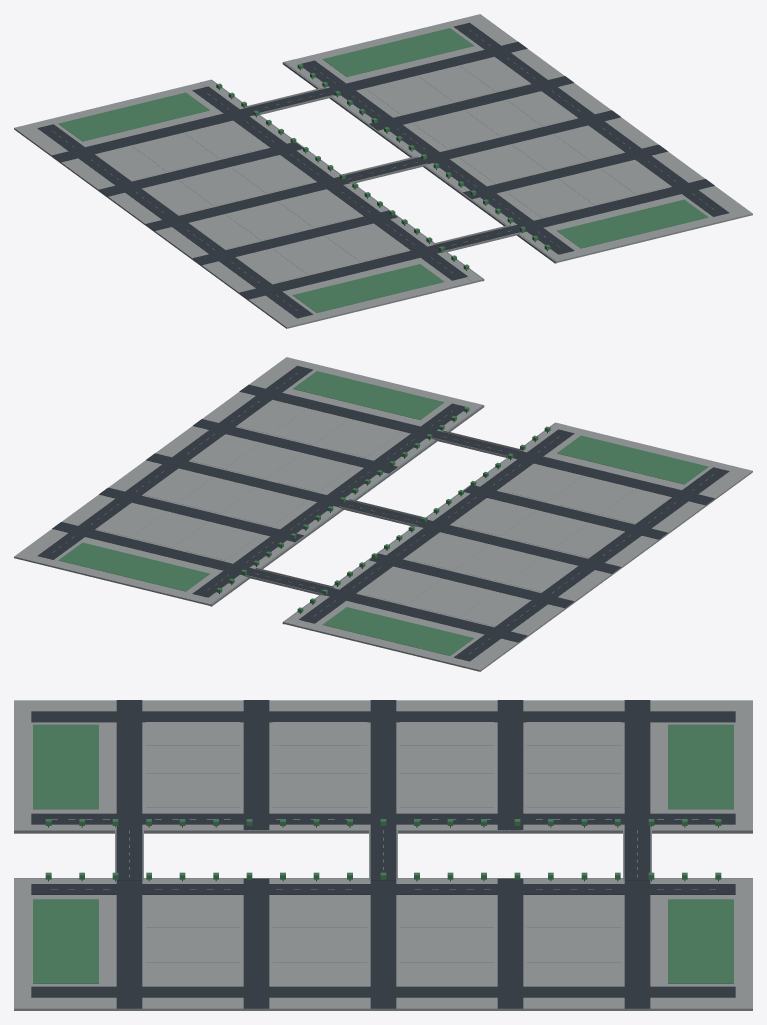
The model's file is riverside-site.glb.
3 views of the same model, one above another, from view 1: azimuth 30°, elevation 25°; view 2: azimuth 150°, elevation 25°; view 3: azimuth 270°, elevation 25° (orthographic). The views are drawn at different scales.
Parts seen in each view (by area): view 1: Building parcel (×24), Riverbank land (×2), Cross street (×10), Boulevard (×4), Riverside park (×4), Promenade (×2), Bridge road (×3), Quay wall; view 2: Building parcel (×24), Riverbank land (×2), Cross street (×10), Boulevard (×4), Riverside park (×4), Promenade (×2), Bridge road (×3), Quay wall; view 3: Building parcel (×24), Riverbank land (×2), Cross street (×10), Boulevard (×4), Riverside park (×4), Promenade (×2), Bridge road (×3), Quay wall (×2).
Boxes of the visible parts, bbox=[...] form: Building parcel (×24): bbox=[96, 57, 670, 283]; Riverbank land (×2): bbox=[14, 14, 752, 328]; Cross street (×10): bbox=[52, 41, 714, 299]; Boulevard (×4): bbox=[37, 22, 729, 318]; Riverside park (×4): bbox=[58, 28, 708, 312]; Promenade (×2): bbox=[200, 59, 566, 281]; Bridge road (×3): bbox=[246, 89, 519, 251]; Quay wall: bbox=[282, 62, 556, 263]; Building parcel (×24): bbox=[96, 400, 670, 626]; Riverbank land (×2): bbox=[14, 357, 752, 671]; Cross street (×10): bbox=[52, 384, 714, 642]; Boulevard (×4): bbox=[37, 365, 729, 661]; Riverside park (×4): bbox=[58, 371, 708, 655]; Promenade (×2): bbox=[200, 402, 566, 624]; Bridge road (×3): bbox=[247, 432, 520, 594]; Quay wall: bbox=[210, 405, 484, 606]; Building parcel (×24): bbox=[145, 722, 621, 986]; Riverbank land (×2): bbox=[14, 700, 752, 1010]; Cross street (×10): bbox=[116, 700, 650, 1008]; Boulevard (×4): bbox=[31, 711, 735, 997]; Riverside park (×4): bbox=[33, 724, 733, 983]; Promenade (×2): bbox=[14, 823, 752, 885]; Bridge road (×3): bbox=[116, 828, 650, 880]; Quay wall (×2): bbox=[14, 830, 752, 878].
Bounding box in the file's own units: 632 × 9.5 × 640.
